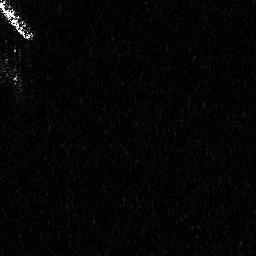ship: (1, 1, 36, 41)
